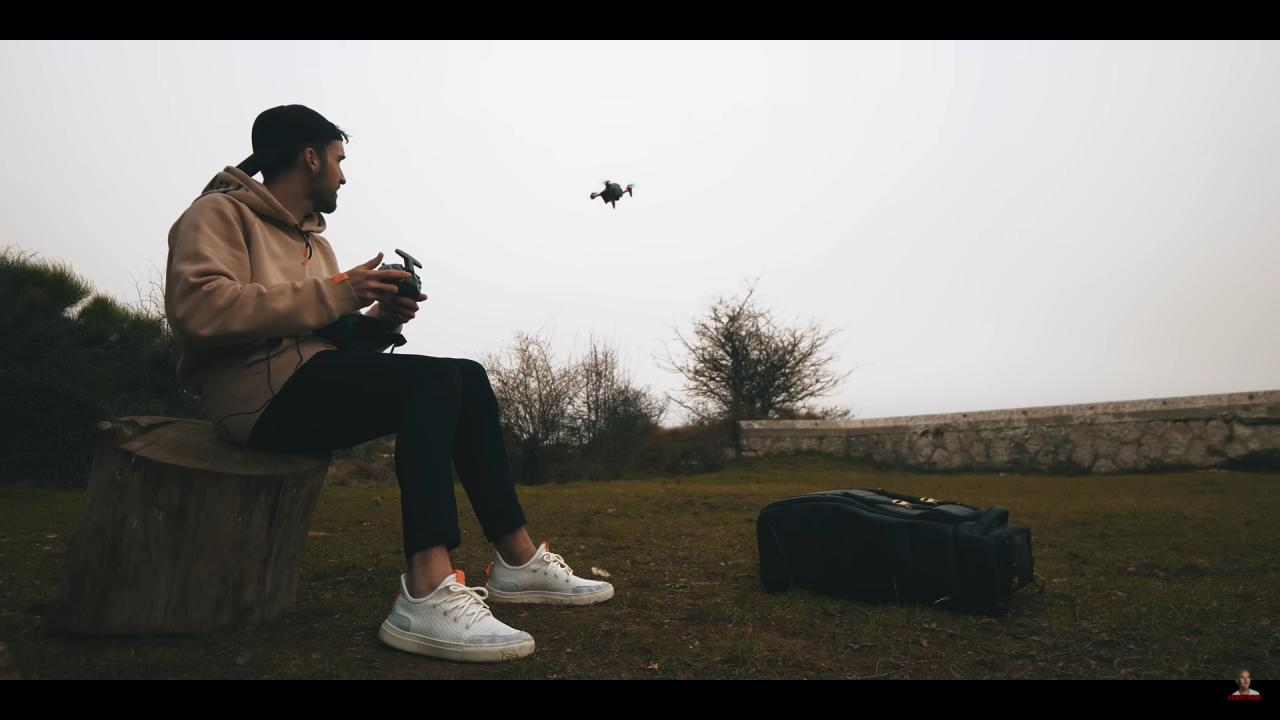Drone: (581, 169, 639, 215)
